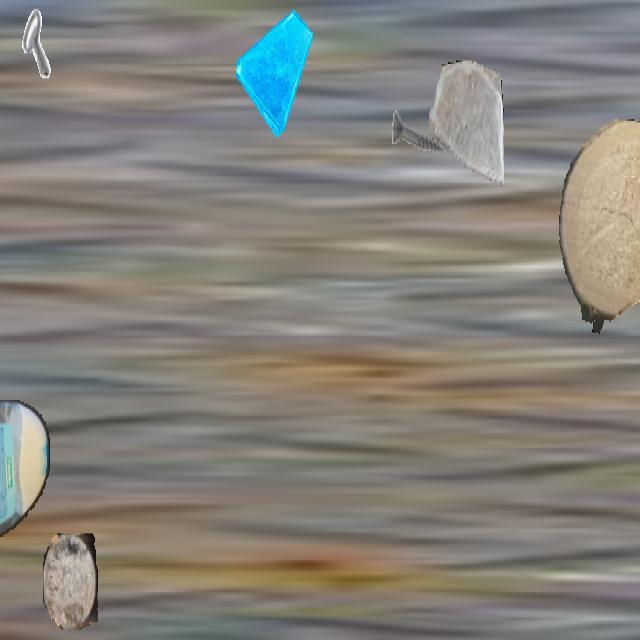glass: (236, 2, 312, 137), (429, 60, 503, 192)
metal: (390, 76, 452, 186), (0, 2, 52, 112), (0, 176, 1, 283)
plastic: (0, 400, 50, 564)
wood: (559, 119, 640, 336), (43, 534, 97, 630)
